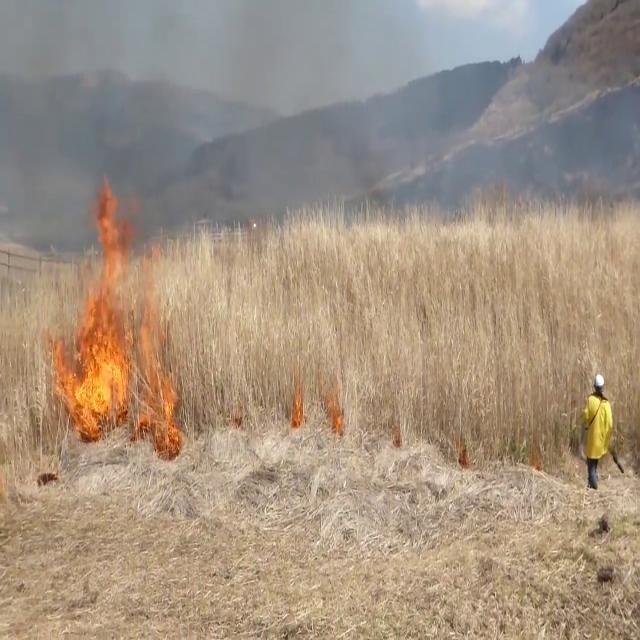Fire: (54, 175, 180, 437)
Smoke: (0, 0, 426, 236)
